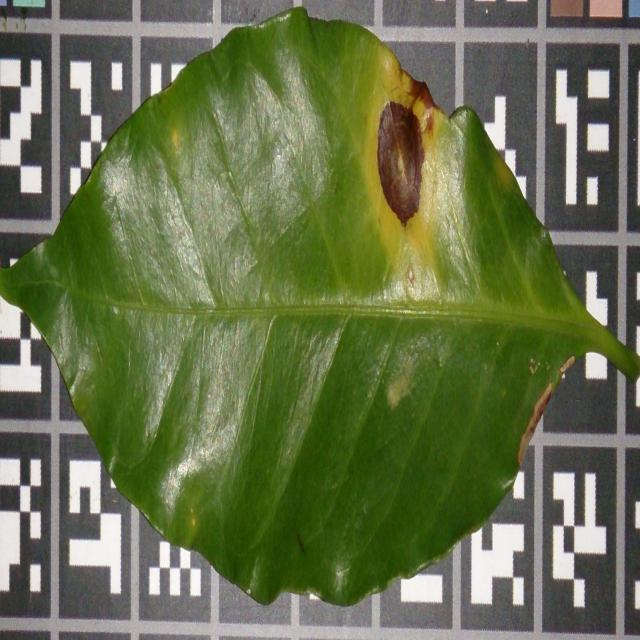Enfermedad-Mancha-de-hierro: (0, 8, 640, 608)
